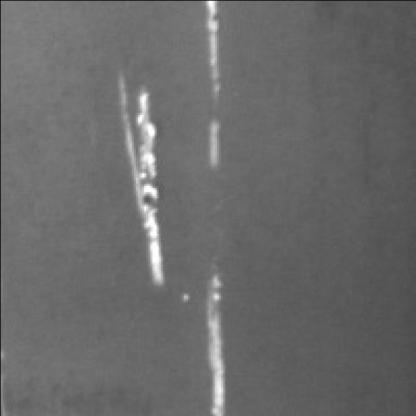scratches: (106, 90, 164, 291), (192, 4, 224, 171), (193, 272, 229, 416)
